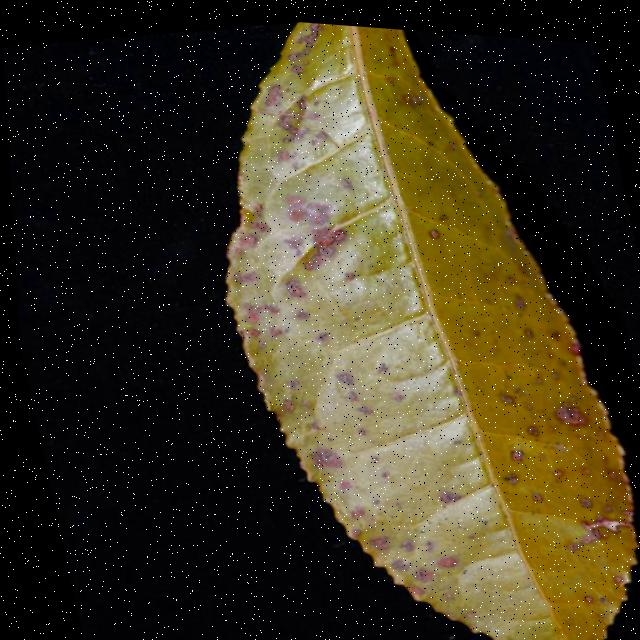Tea red rust: (183, 11, 640, 640)
